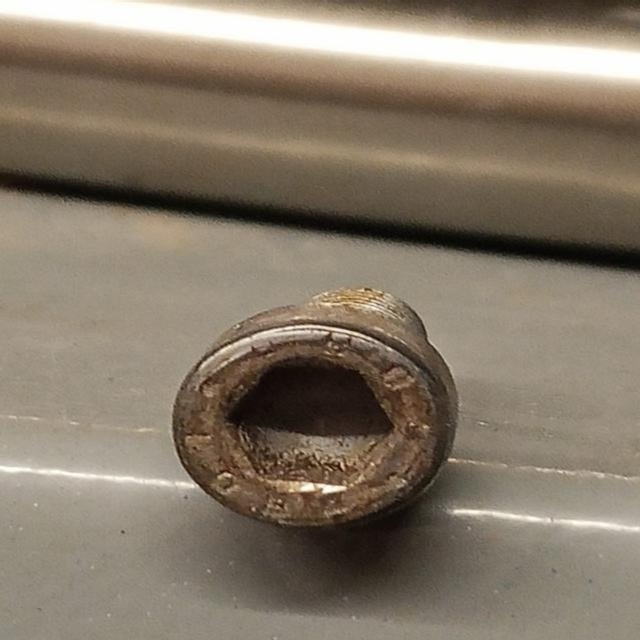allen: (172, 308, 459, 526)
